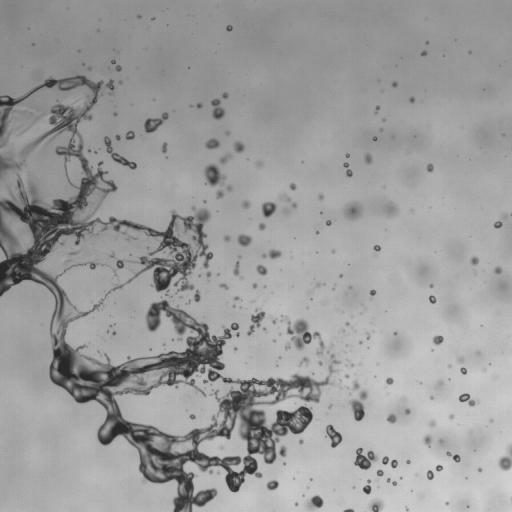droplet: (354, 448, 378, 469), (204, 164, 225, 186), (325, 424, 342, 447), (343, 201, 362, 220), (305, 495, 323, 511), (211, 99, 225, 119), (261, 201, 277, 217), (459, 393, 477, 406), (368, 498, 383, 511), (384, 202, 397, 216), (237, 234, 252, 246), (205, 138, 219, 149), (362, 480, 371, 494), (83, 261, 98, 269), (266, 480, 278, 490), (234, 141, 244, 152), (256, 265, 267, 275), (432, 335, 443, 345), (386, 413, 396, 423), (299, 357, 309, 366), (423, 435, 431, 446), (193, 290, 200, 302), (125, 131, 134, 139), (241, 200, 250, 208), (470, 256, 478, 265), (364, 153, 371, 163), (216, 189, 223, 198), (426, 163, 433, 171), (494, 221, 502, 228), (429, 295, 436, 303), (456, 356, 464, 363), (386, 377, 393, 385), (429, 419, 436, 427), (376, 469, 383, 477), (219, 283, 228, 289), (427, 470, 433, 479), (289, 183, 296, 190), (258, 223, 265, 230), (494, 266, 501, 273), (435, 464, 442, 471), (283, 208, 290, 214), (373, 245, 380, 251), (460, 367, 466, 374), (226, 25, 232, 31), (115, 65, 121, 71), (222, 92, 228, 98), (256, 161, 262, 167), (226, 185, 232, 191), (224, 235, 230, 241), (206, 271, 211, 278), (392, 81, 397, 87), (409, 97, 414, 103), (318, 194, 323, 200), (271, 317, 276, 323), (348, 362, 354, 367), (437, 381, 443, 386), (189, 414, 195, 419), (421, 50, 426, 55), (115, 135, 120, 140), (326, 220, 331, 225), (252, 283, 257, 288), (316, 282, 321, 287), (370, 290, 375, 295), (405, 409, 410, 414), (375, 106, 379, 112), (234, 296, 240, 300), (197, 103, 201, 108), (366, 334, 370, 339), (344, 374, 349, 378), (449, 414, 453, 419), (299, 439, 303, 444), (392, 481, 397, 485), (111, 59, 115, 63), (345, 153, 349, 157), (318, 361, 322, 365), (294, 502, 298, 506), (503, 215, 507, 218), (263, 327, 266, 331), (112, 331, 115, 335), (328, 404, 331, 408), (387, 478, 391, 481), (445, 501, 448, 505), (405, 507, 408, 511), (113, 112, 116, 115), (226, 131, 229, 134), (373, 137, 376, 140), (331, 250, 334, 253), (430, 284, 433, 287), (187, 301, 190, 304), (346, 322, 349, 325), (476, 351, 479, 354), (430, 396, 433, 399), (407, 460, 410, 463), (478, 468, 481, 471), (219, 446, 223, 448), (138, 15, 140, 18), (316, 231, 318, 234), (273, 339, 275, 342), (359, 341, 361, 344), (490, 419, 492, 422), (119, 81, 121, 83), (23, 111, 25, 113), (88, 150, 90, 152), (238, 256, 240, 258), (107, 264, 109, 266), (340, 275, 342, 277), (310, 291, 312, 293), (233, 305, 235, 307), (342, 329, 344, 331), (394, 332, 396, 334), (359, 362, 361, 364), (439, 440, 441, 442)
ligament: (0, 79, 341, 511), (104, 136, 136, 169), (345, 380, 367, 421), (246, 307, 265, 335), (144, 112, 168, 132), (498, 443, 511, 470), (281, 194, 297, 208), (262, 249, 281, 259), (382, 456, 397, 468), (446, 452, 460, 462), (344, 162, 352, 177), (219, 154, 231, 163), (233, 261, 239, 275), (162, 142, 167, 153), (343, 508, 354, 511), (69, 251, 77, 255), (63, 267, 69, 272), (72, 263, 80, 266)
